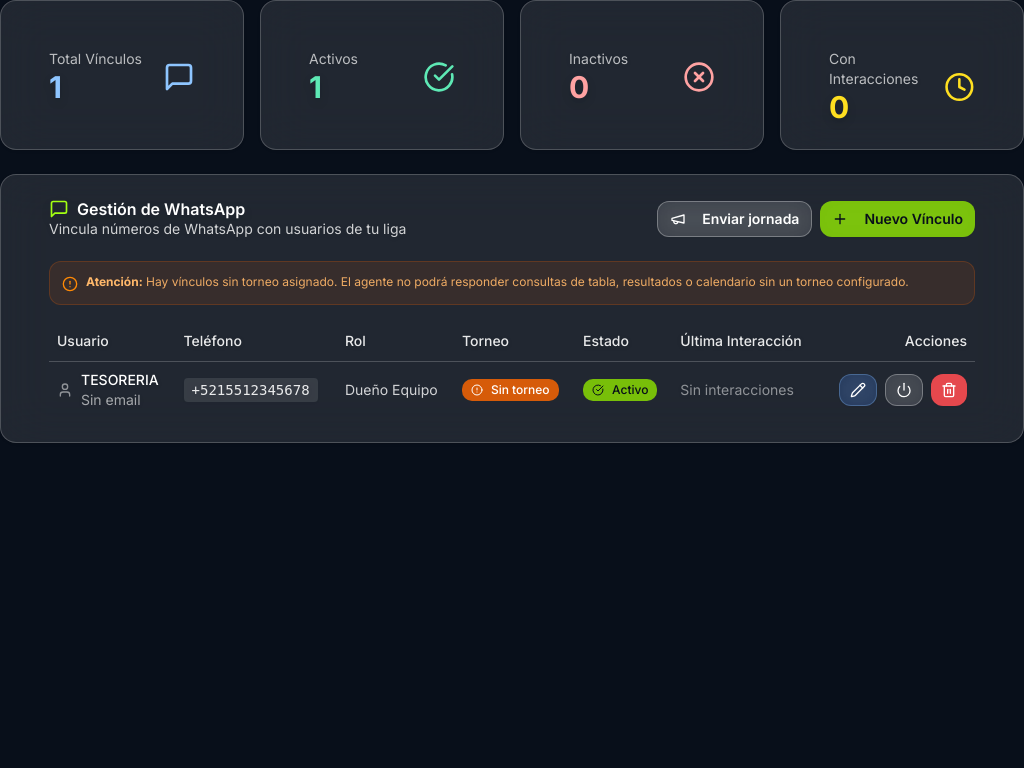
WhatsApp page: links › keeps the link when the delete confirmation is dismissed
This screenshot has width=1024, height=768.
Click the button named "Eliminar vínculo de TESORERIA" at (949, 390), box x1=931 y1=374 x2=967 y2=406
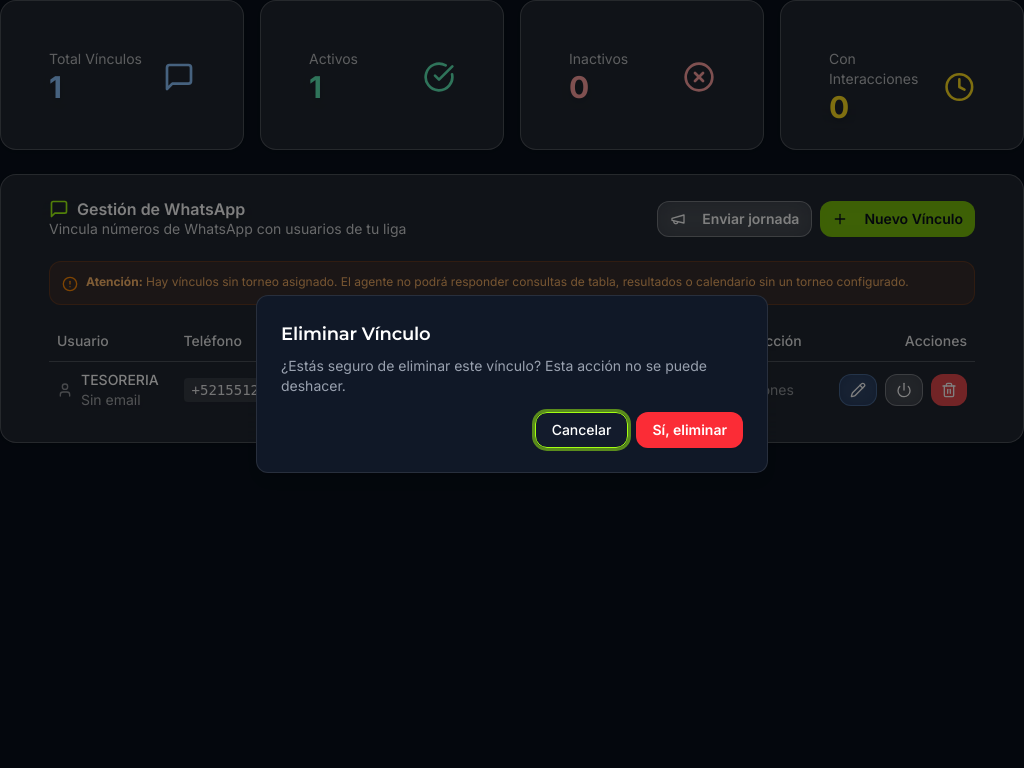
Click the button "Cancelar" at (582, 430), box x1=535 y1=412 x2=628 y2=448
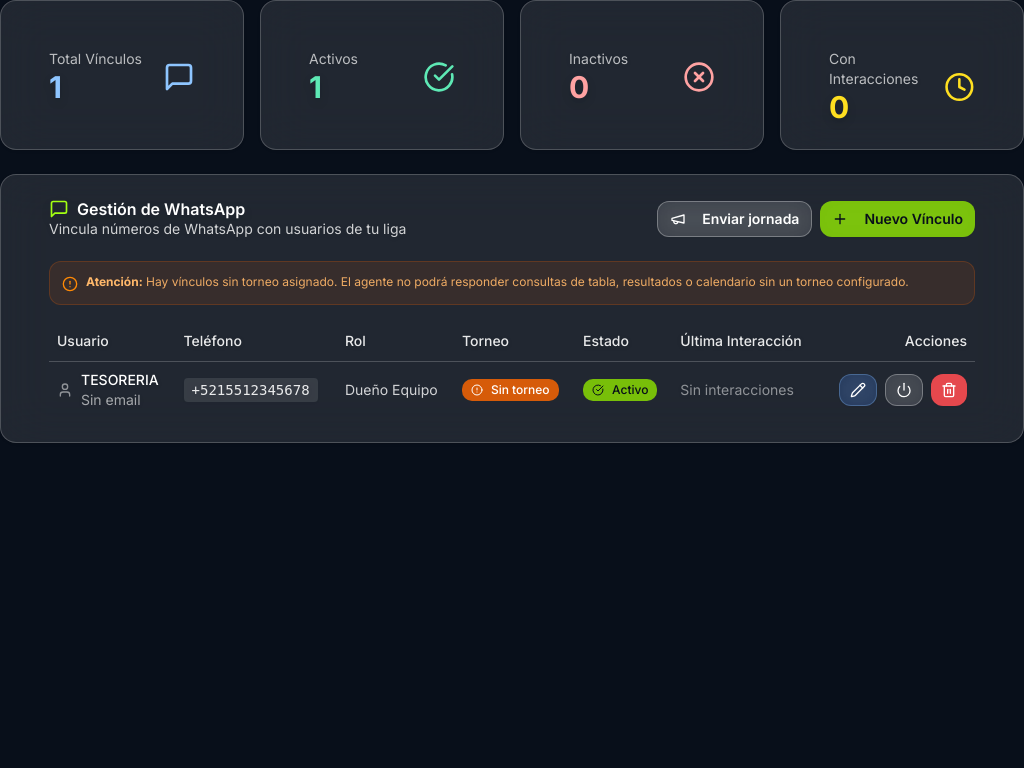
Expected: the dialog is gone
